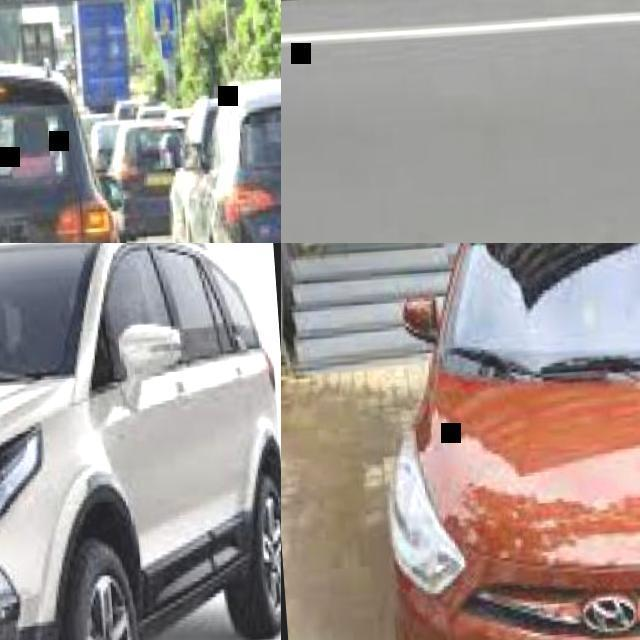car: (1, 239, 284, 639)
